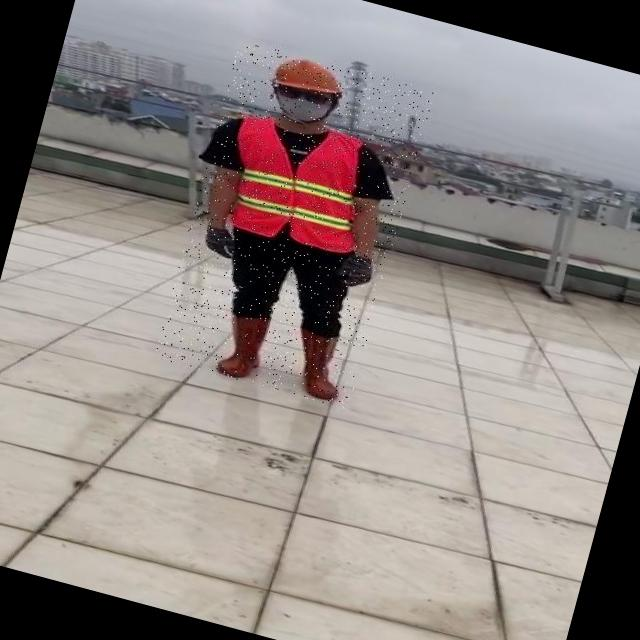boots: (284, 326, 354, 404), (212, 308, 276, 386)
gloves: (331, 247, 378, 293), (198, 220, 240, 260)
helmet: (269, 50, 349, 102)
vest: (215, 108, 378, 259)
